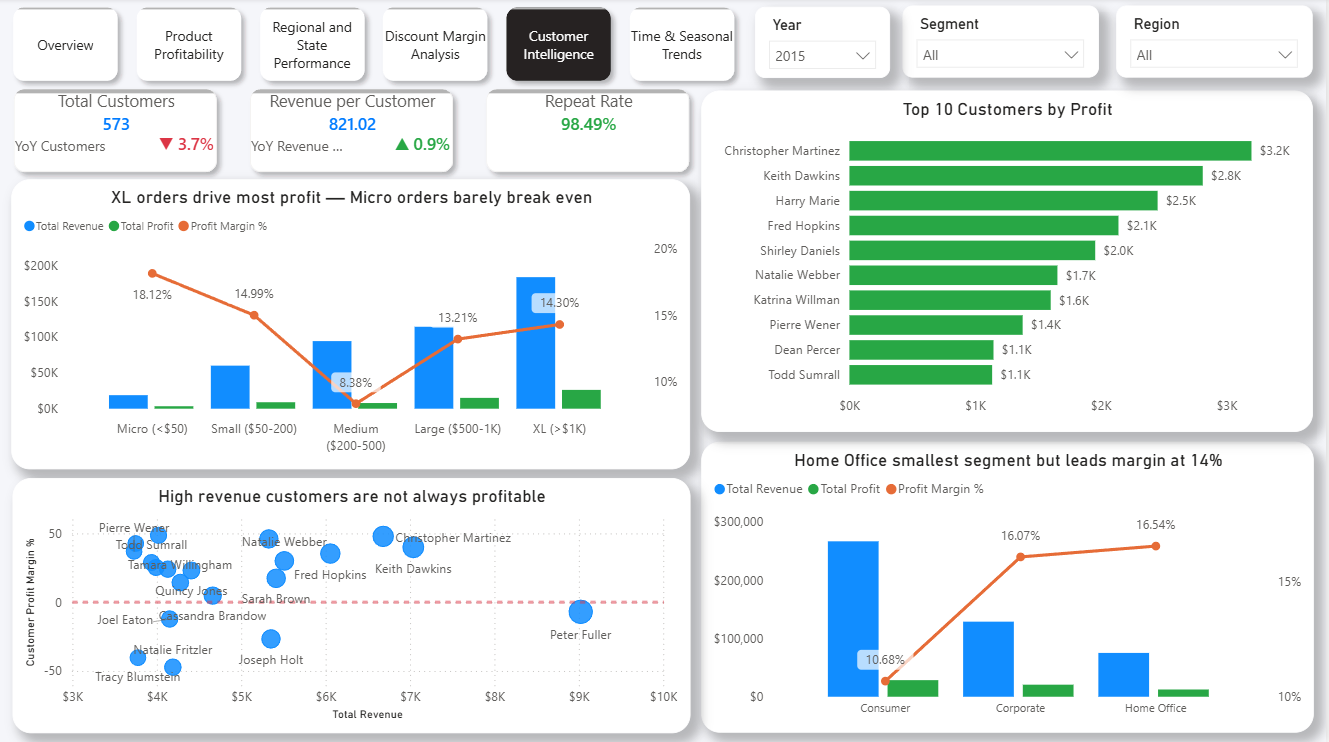

What the dashboard file says about the page in this screenshot:
{"tool":"powerbi","page":{"name":"Customer Intelligence","canvas":[1280,720],"ordinal":4},"visuals":[{"type":"slicer","fields":{"Values":["superstore_clean.Segment"]},"box":[871.4,6.9,189.4,70],"z":0},{"type":"slicer","title":"YE","fields":{"Values":["superstore_clean.Order_Year"]},"box":[728.6,8.2,130.4,68.6],"z":1000},{"type":"pageNavigator","box":[4.1,0,716.3,89.2],"z":2000},{"type":"cardVisual","fields":{"Data":["Measures (2).Total Customers","Measures (2).Revenue per Customer","Measures (2).Repeat Rate"]},"box":[1.4,75.5,676.5,104.3],"z":3000},{"type":"lineClusteredColumnComboChart","title":"XL orders drive most profit — Micro orders barely break even","fields":{"Category":["superstore_clean.Sales_Bucket"],"Y":["Measures (2).Total Revenue","Measures (2).Total Profit"],"Y2":["Measures (2).Profit Margin %"]},"box":[11.1,175.3,655.4,279.7],"z":4000},{"type":"lineClusteredColumnComboChart","title":"Home Office smallest segment but leads margin at 14%","fields":{"Category":["superstore_clean.Segment"],"Y":["Measures (2).Total Revenue","Measures (2).Total Profit"],"Y2":["Measures (2).Profit Margin %"]},"box":[676.3,428.6,591.4,281.1],"z":5000},{"type":"clusteredBarChart","title":"Top 10 Customers by Profit","fields":{"Category":["superstore_clean.Customer_Name"],"Y":["Measures (2).Total Profit"]},"box":[676.3,89.1,590,329.8],"z":6000},{"type":"scatterChart","title":"High revenue customers are not always profitable","fields":{"Category":["superstore_clean.Customer_Name"],"Size":["Measures (2).Total Revenue"],"X":["Measures (2).Total Revenue"],"Y":["Measures (2).Customer Profit Margin %"]},"box":[12.5,463.4,654.1,246.3],"z":7000},{"type":"slicer","fields":{"Values":["superstore_clean.Region"]},"box":[1077.1,7,189.3,69.6],"z":8000}]}

Visuals, with their boxes in screenshot pixels (x1, y1, x2, y2), scaled from the page's 1280x720 canvas onto the 1329x742 screenshot:
slicer - superstore_clean.Segment: (left=905, top=7, right=1101, bottom=79)
"YE" slicer: (left=756, top=8, right=892, bottom=79)
pageNavigator: (left=4, top=0, right=748, bottom=92)
cardVisual - Measures (2).Total Customers x Measures (2).Revenue per Customer: (left=1, top=78, right=704, bottom=185)
"XL orders drive most profit — Micro orders barely break even" lineClusteredColumnComboChart: (left=12, top=181, right=692, bottom=469)
"Home Office smallest segment but leads margin at 14%" lineClusteredColumnComboChart: (left=702, top=442, right=1316, bottom=731)
"Top 10 Customers by Profit" clusteredBarChart: (left=702, top=92, right=1315, bottom=432)
"High revenue customers are not always profitable" scatterChart: (left=13, top=478, right=692, bottom=731)
slicer - superstore_clean.Region: (left=1118, top=7, right=1315, bottom=79)
